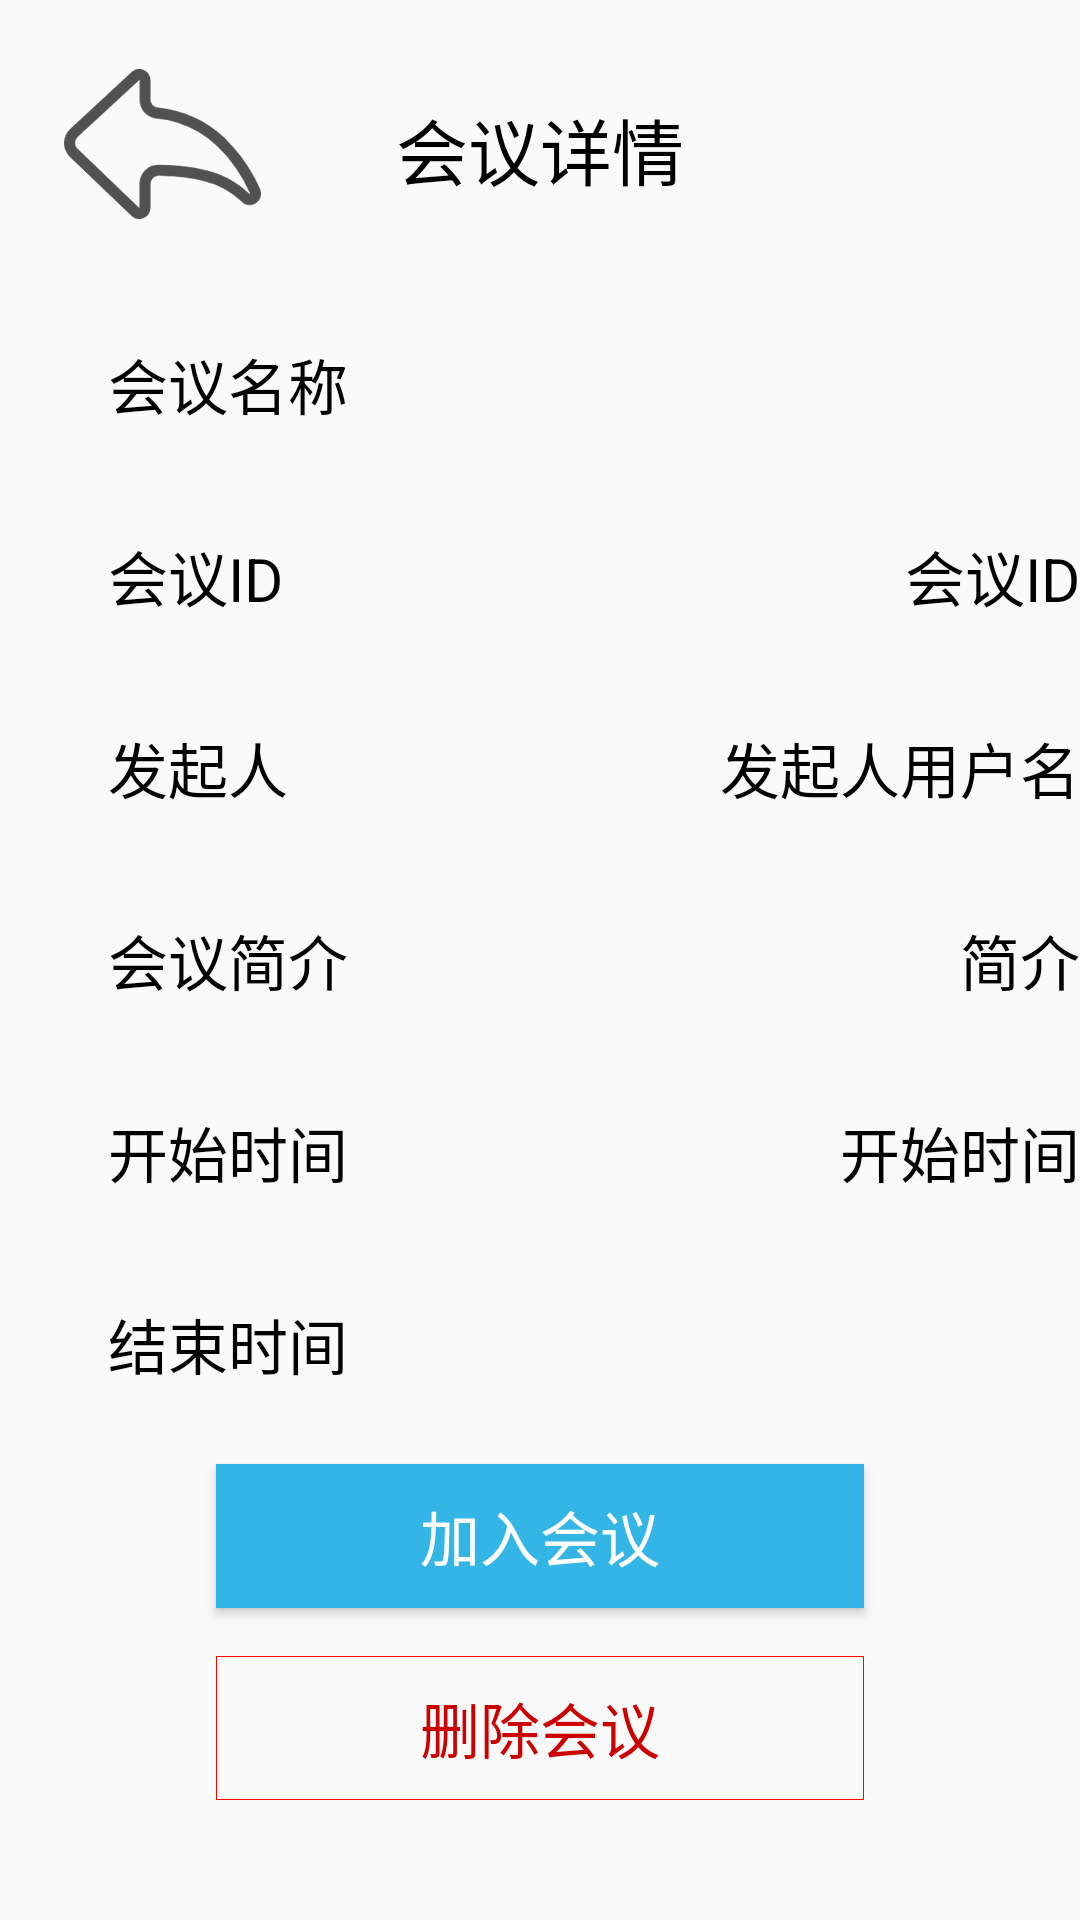

Point at icon controls on the screen. Image size 1080px×1920px, points as [x,y].
fanhui: [162,144]
